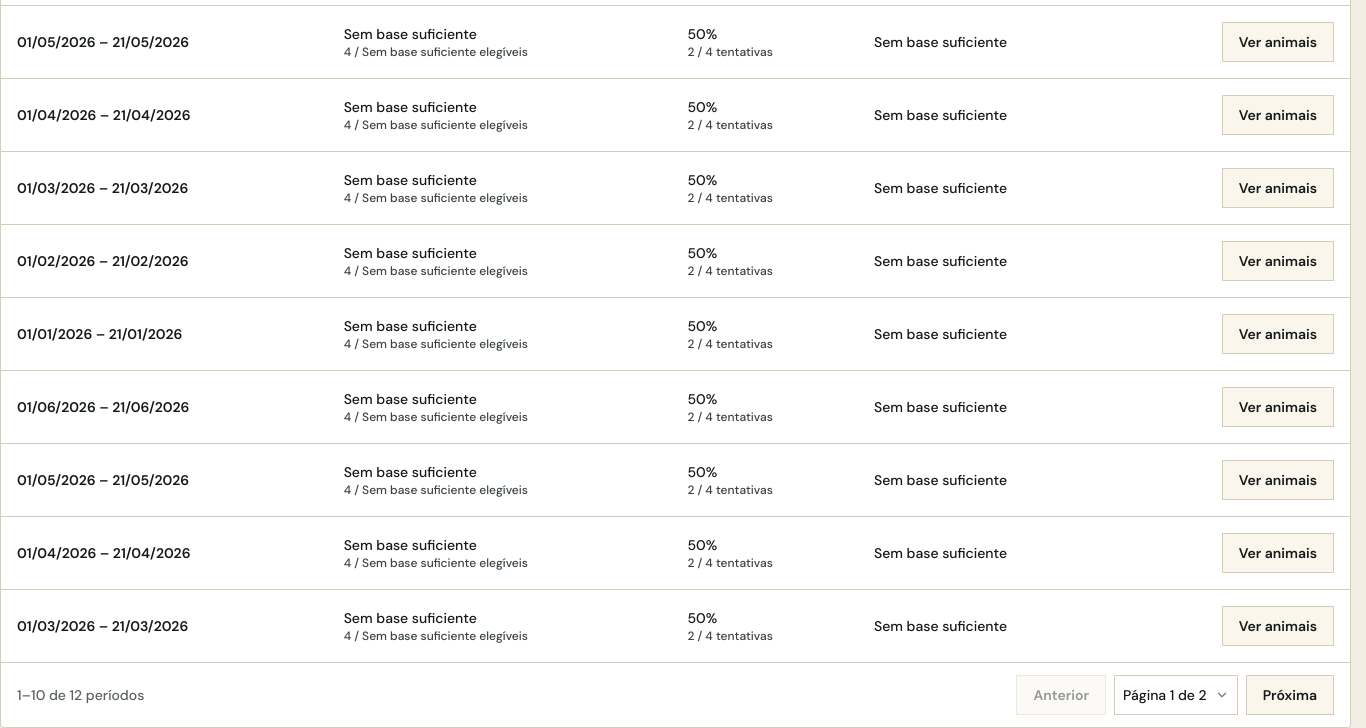
pagina períodos e abre os animais da janela com datas completas
(page scrolled)
Expected: the text "1–10 de 12 períodos" is shown, [17, 685, 144, 705]
Click the button "Próxima" at (1290, 695), box [1246, 675, 1334, 715]
(page scrolled)
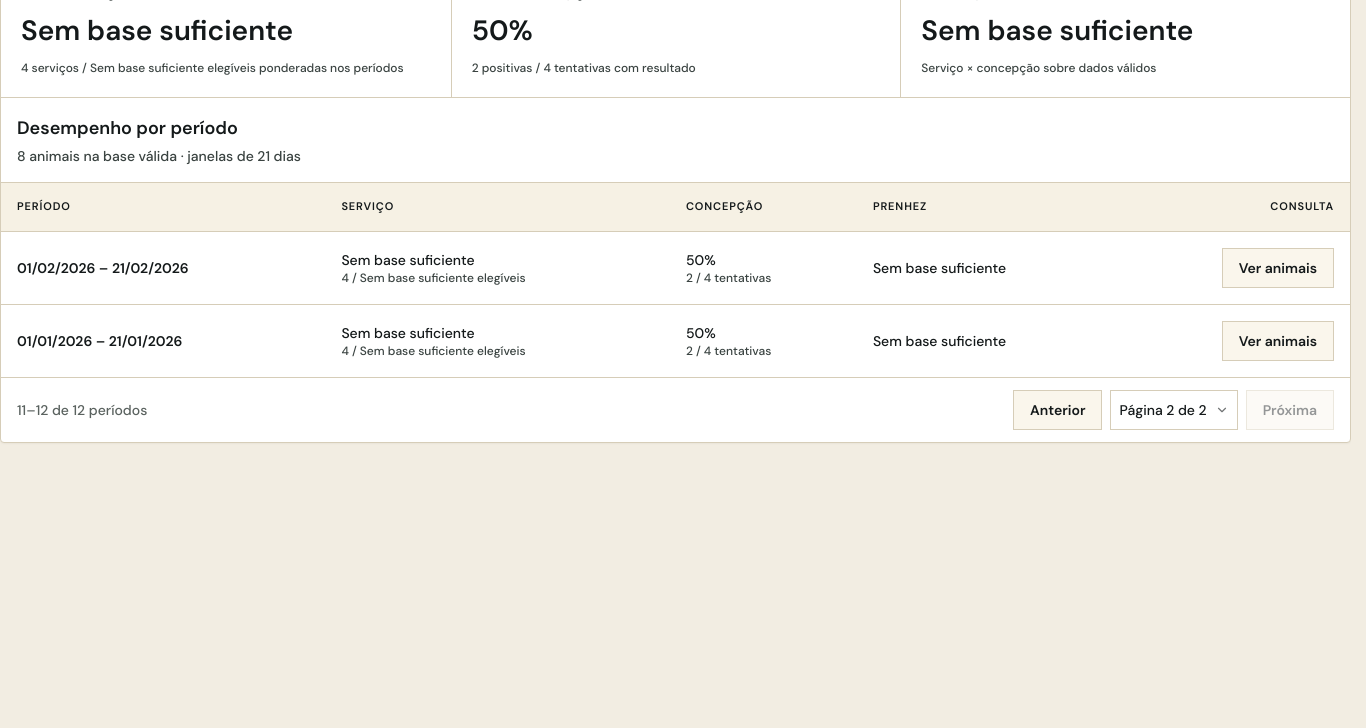
Now the text "11–12 de 12 períodos" is shown, box [17, 400, 147, 420]
Click the button "Ver animais" in the row of "01/02/2026" at (1278, 268), box [1222, 248, 1334, 288]
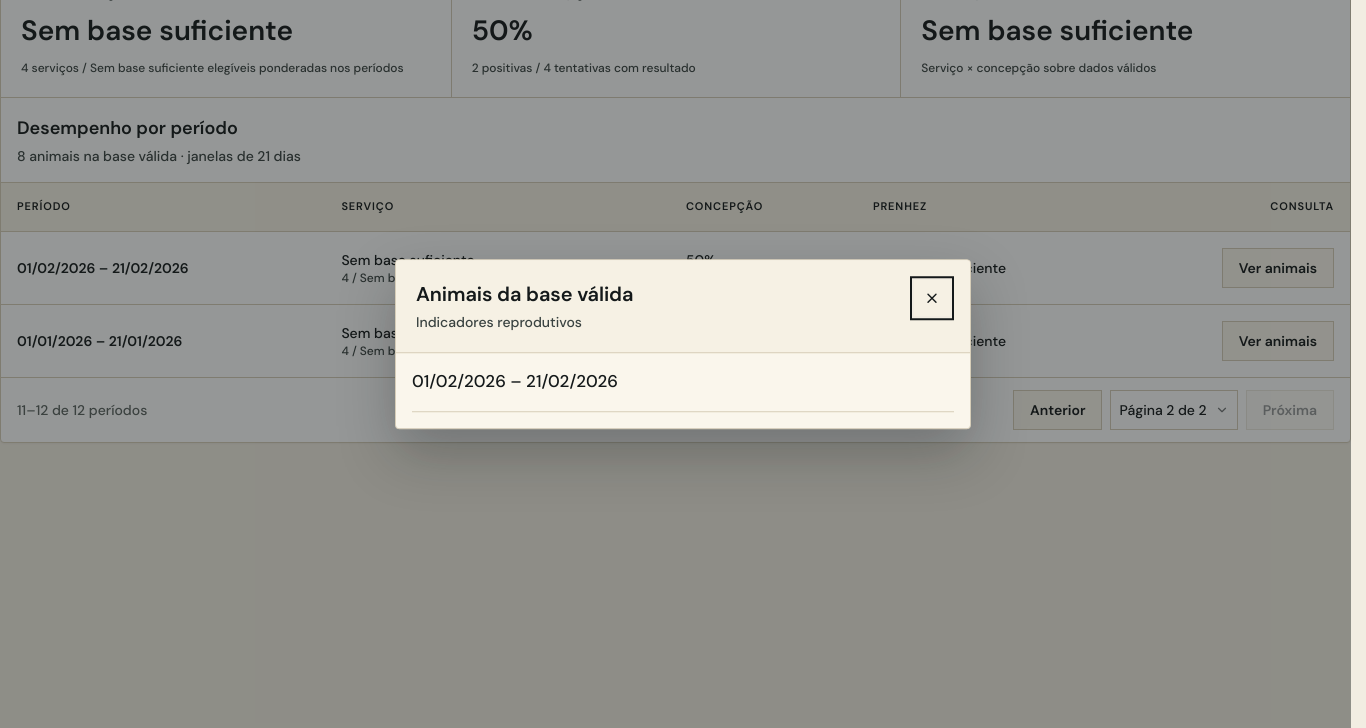
Expected: the 1st text "01/02/2026 – 21/02/2026" is shown, [17, 259, 189, 277]
Now the dialog "Animais da base válida" is shown, box [395, 259, 971, 429]
